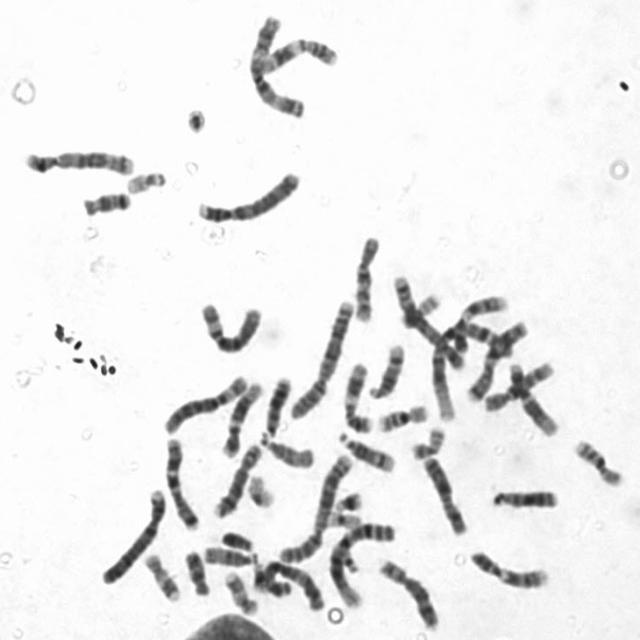A1: (424, 309, 529, 422), (324, 512, 401, 610)
A2: (273, 445, 357, 565), (284, 290, 358, 421)
A3: (244, 5, 308, 120), (249, 553, 328, 612)
B4: (96, 480, 169, 586), (191, 162, 304, 225)
B5: (388, 264, 469, 372), (18, 142, 138, 178)
C10: (478, 352, 558, 413), (347, 226, 384, 324)
C11: (253, 29, 343, 74), (339, 354, 376, 434)
C12: (503, 354, 563, 438), (216, 373, 264, 459)
C6: (158, 366, 252, 435), (193, 293, 266, 356)
C7: (460, 311, 532, 403), (158, 428, 202, 532)
C8: (372, 550, 442, 631), (207, 435, 266, 520)
C9: (463, 540, 553, 591), (451, 286, 513, 354)
D13: (258, 368, 295, 439), (487, 480, 562, 511)
D14: (332, 424, 399, 473), (364, 336, 408, 400)
D15: (254, 428, 318, 469), (198, 538, 261, 568)
E16: (569, 429, 628, 488), (372, 396, 431, 434)
E17: (139, 545, 184, 604), (219, 563, 261, 617)
E18: (77, 182, 133, 217), (179, 542, 213, 598)
F19: (241, 467, 279, 509), (320, 503, 365, 530)
F20: (394, 285, 444, 329), (406, 418, 449, 461)
G21: (246, 558, 274, 603), (328, 483, 366, 514)
G22: (121, 162, 170, 195), (328, 540, 361, 578)
X: (417, 448, 472, 538)
Y: (215, 522, 257, 553)
